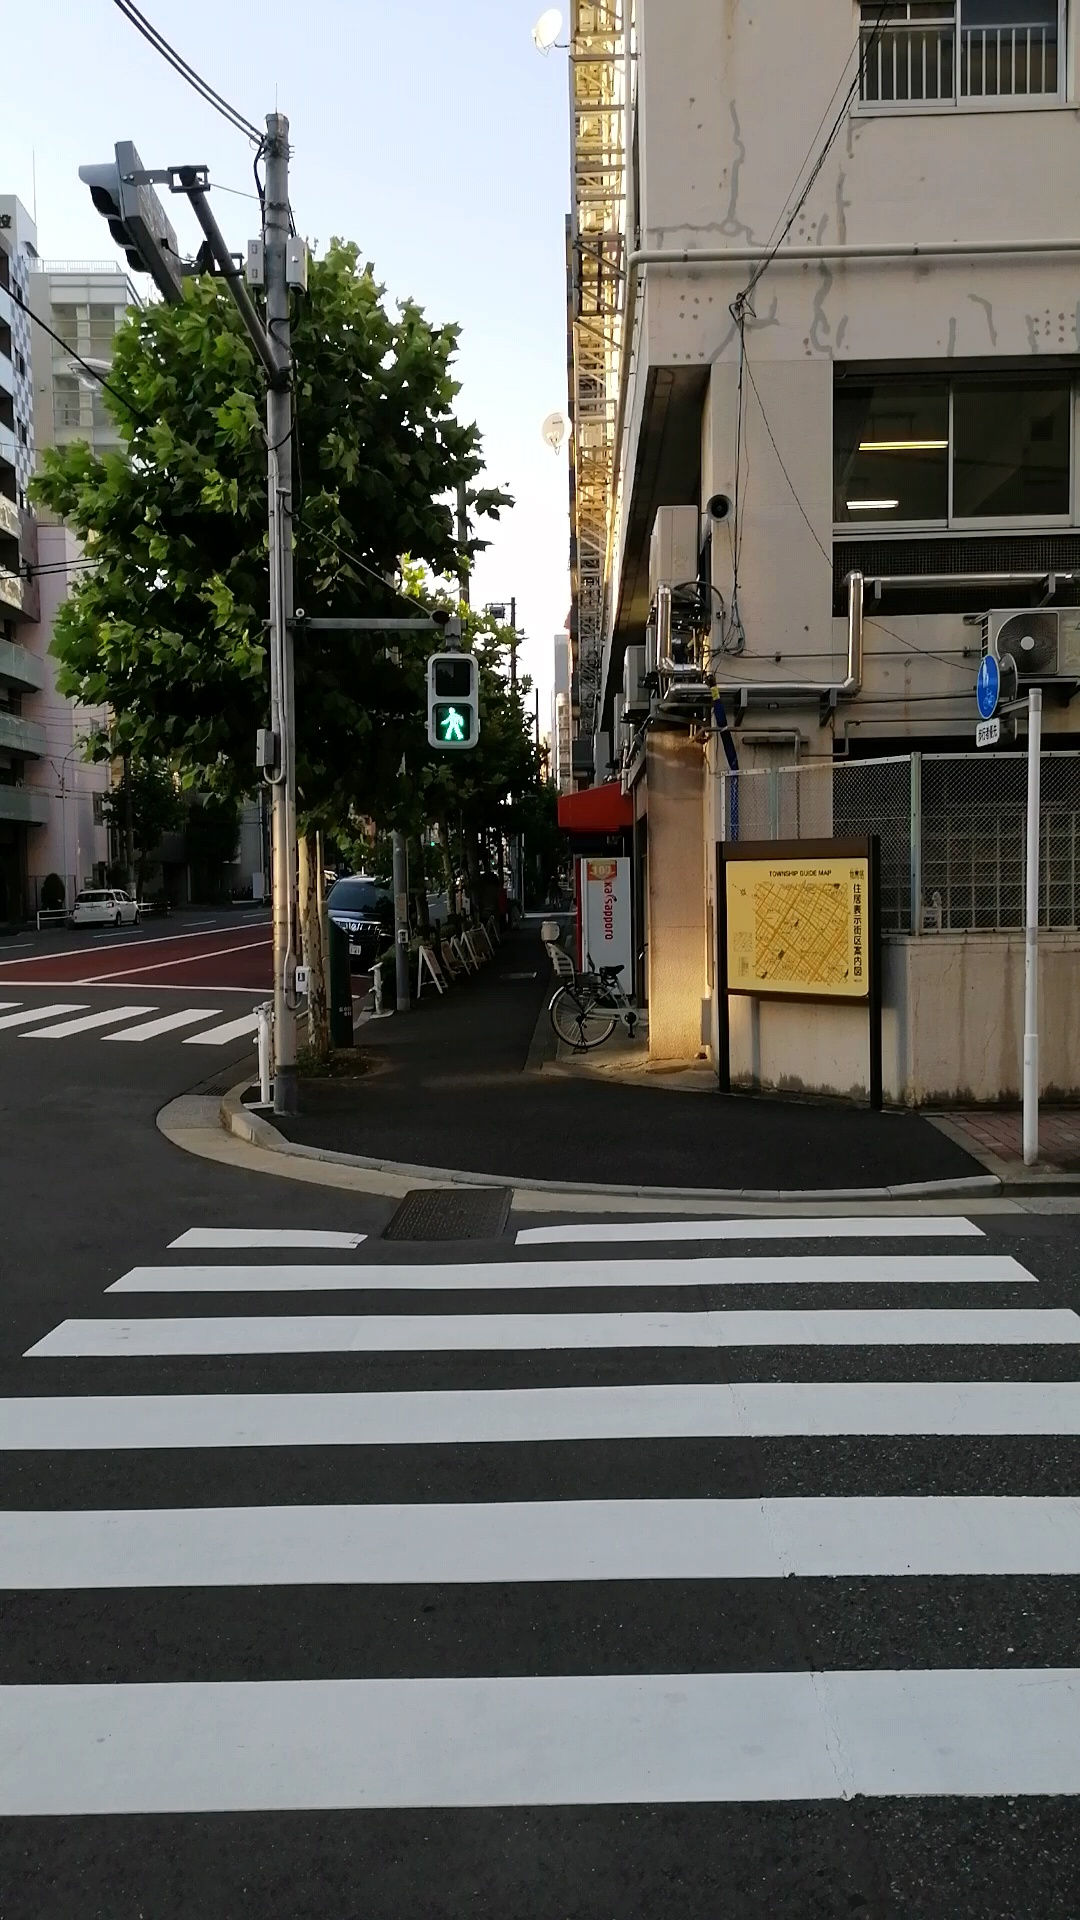green: (425, 653, 479, 753)
